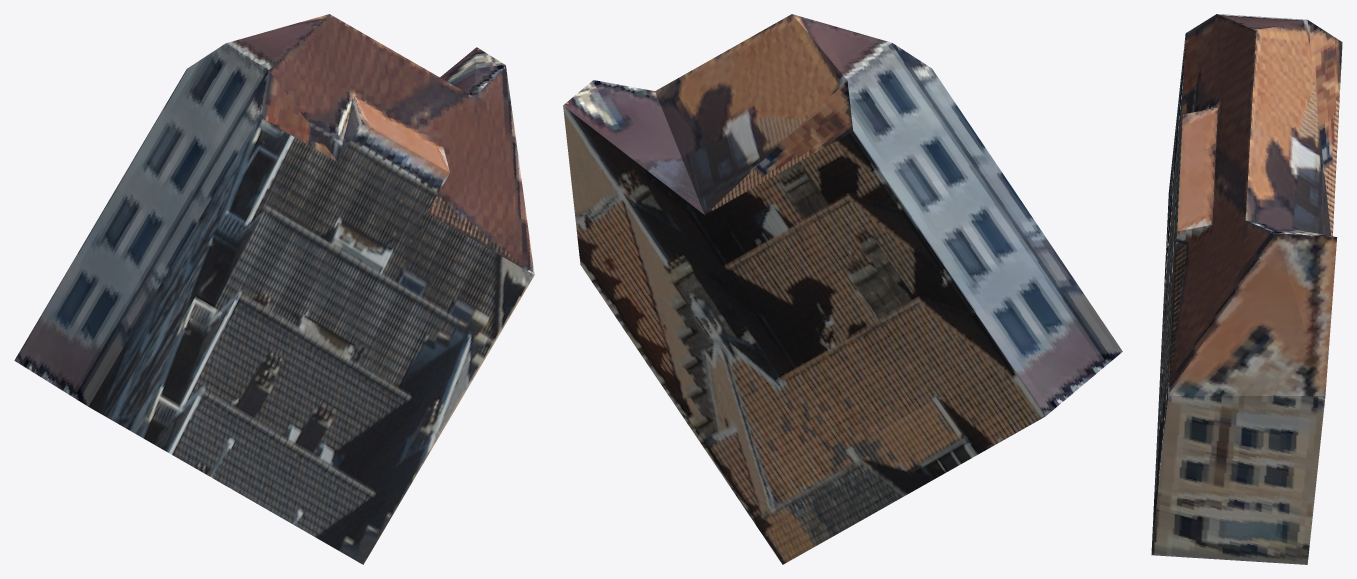
3 renders of one model, left to right at view 1: azimuth 30°, elevation 25°; view 2: azimuth 150°, elevation 25°; view 3: azimuth 270°, elevation 25°, orthographic. The views are drawn at different scales.
Visible parts, largest first — view 1: BAG_0599100000671599 (×5); view 2: BAG_0599100000671599 (×4); view 3: BAG_0599100000671599 (×5).
Boxes of the visible parts, <box> form: BAG_0599100000671599 (×5): <box>14,14,534,564</box>; BAG_0599100000671599 (×4): <box>563,14,1122,564</box>; BAG_0599100000671599 (×5): <box>1151,14,1342,564</box>.
Size of the model in its own units: 22.16 by 23.44 by 7.49.
5 materials, 5 textured.
